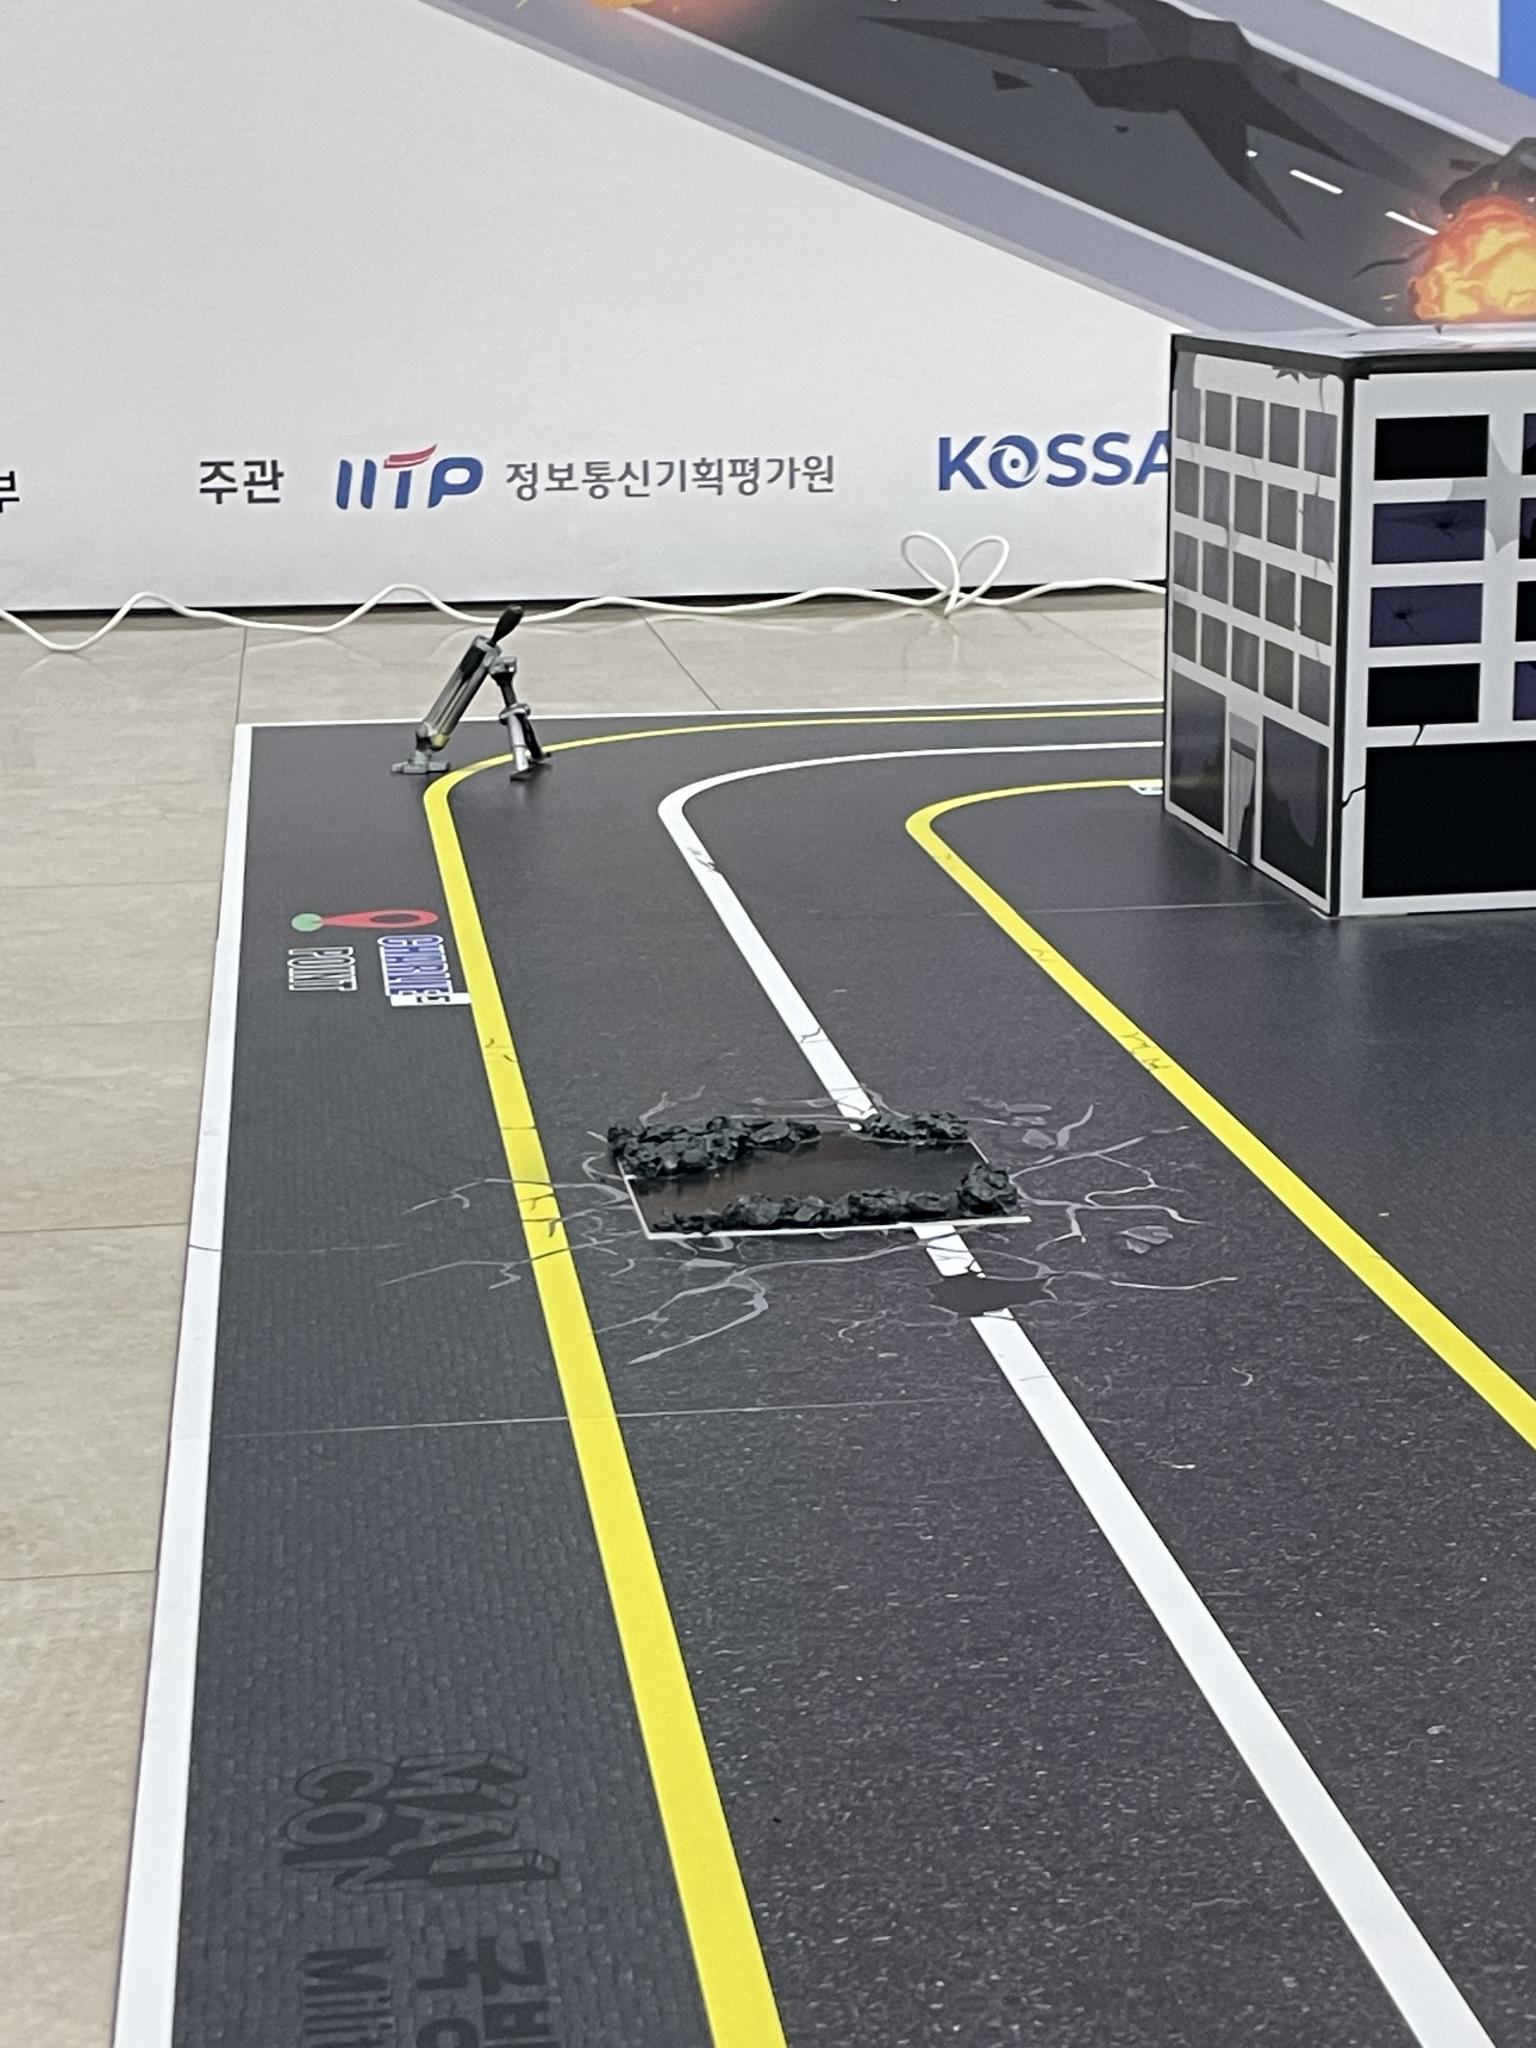Mortar: (402, 605, 549, 779)
